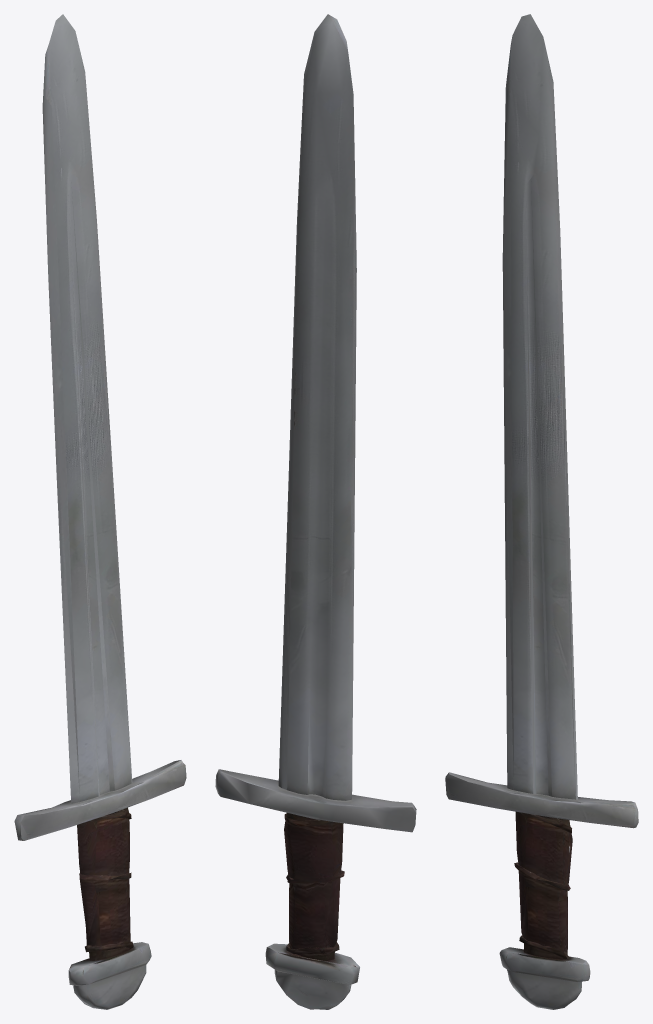
The model's file is ArmingSword.glb.
The picture shows the model from 3 angles, left to right: view 1: azimuth 30°, elevation 25°; view 2: azimuth 150°, elevation 25°; view 3: azimuth 330°, elevation 25°; orthographic projection. The views are drawn at different scales.
Visible parts, largest first — view 1: ArmingSword; view 2: ArmingSword; view 3: ArmingSword.
Part boxes in pixels (x1,y1,x2,y2): ArmingSword: (14,14,186,1009); ArmingSword: (215,14,416,1009); ArmingSword: (445,14,638,1009).
Size of the model in its own units: 0.185 by 0.95 by 0.042.
Materials: 1 (1 with a texture image).
